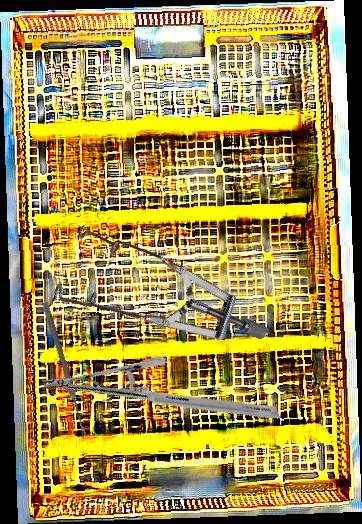Needle Holder: (40, 299, 281, 497)
Speculum: (26, 173, 272, 427)
Surgical Spoon: (40, 301, 90, 440)
